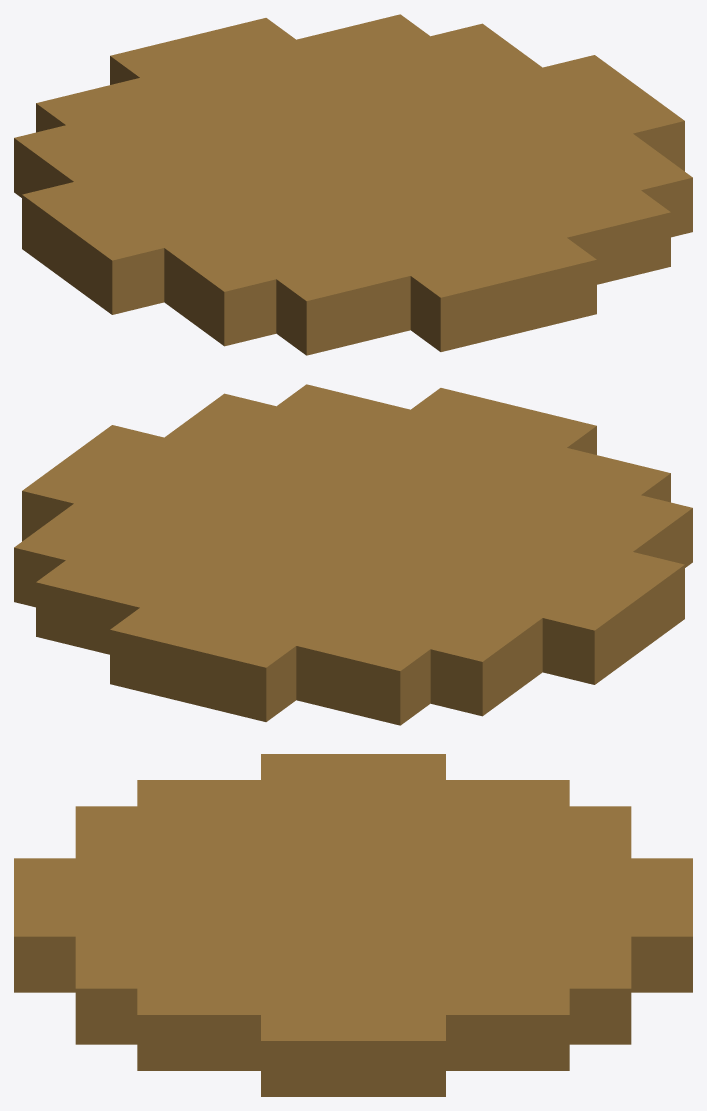
Rendered from Table-top3.obj.
3 renders of one model, top to bottom at view 1: azimuth 30°, elevation 25°; view 2: azimuth 150°, elevation 25°; view 3: azimuth 270°, elevation 25°, orthographic. The views are drawn at different scales.
Size of the model in its own units: 1.1 by 0.1 by 1.1.
1 material, 1 textured.
